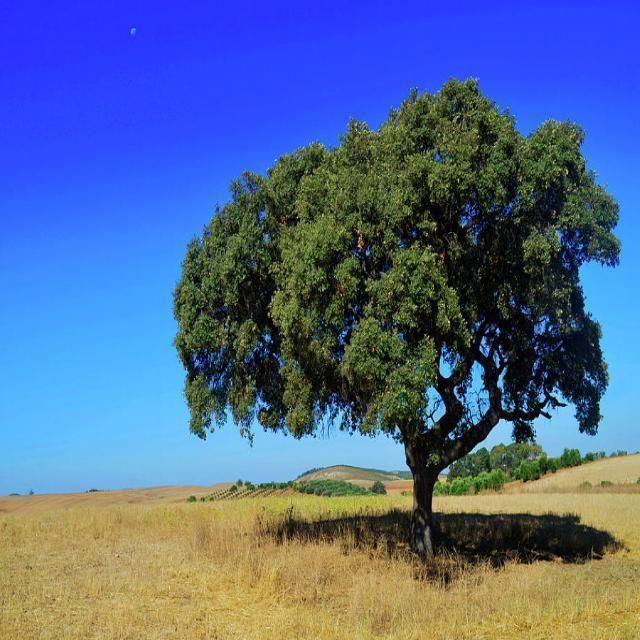tree: (178, 67, 626, 531)
